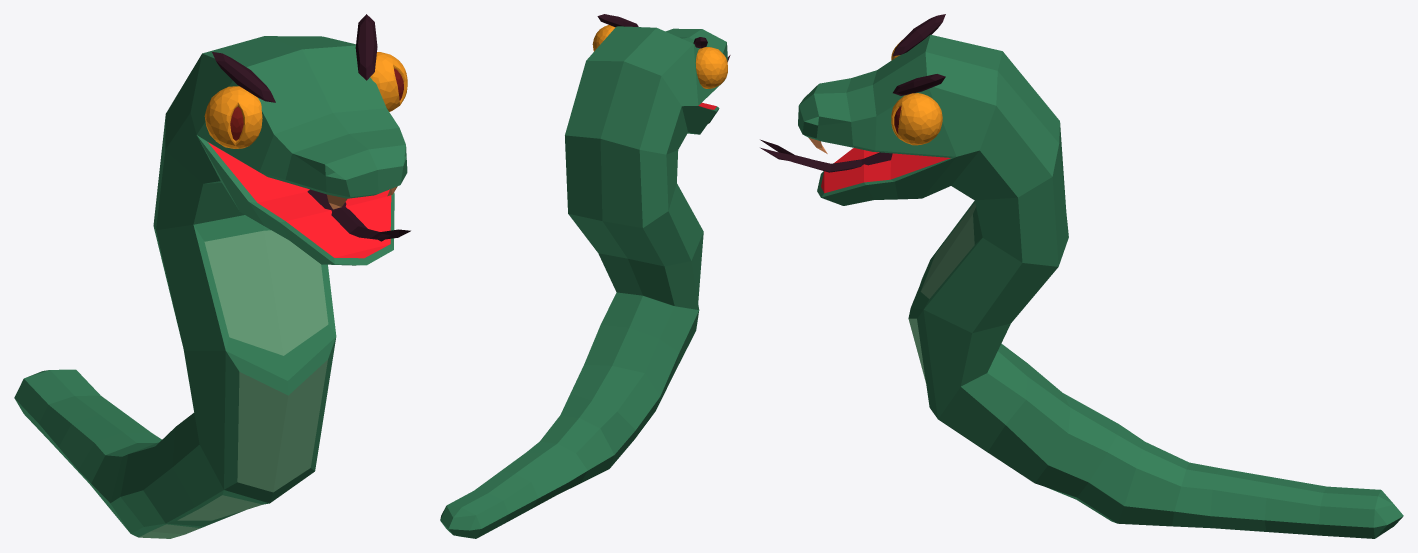
The model's file is Snake_Angry_000014.obj.
3 renders of one model, left to right at view 1: azimuth 30°, elevation 25°; view 2: azimuth 150°, elevation 25°; view 3: azimuth 270°, elevation 25°, orthographic. The views are drawn at different scales.
Visible parts, largest first — view 1: Snake_Cylinder; view 2: Snake_Cylinder; view 3: Snake_Cylinder.
Boxes of the visible parts, x1,y1,x2,y2 form: Snake_Cylinder: (14,14,410,538); Snake_Cylinder: (440,14,730,538); Snake_Cylinder: (760,14,1403,538).
Size of the model in its own units: 1.05 by 2.98 by 3.63.
